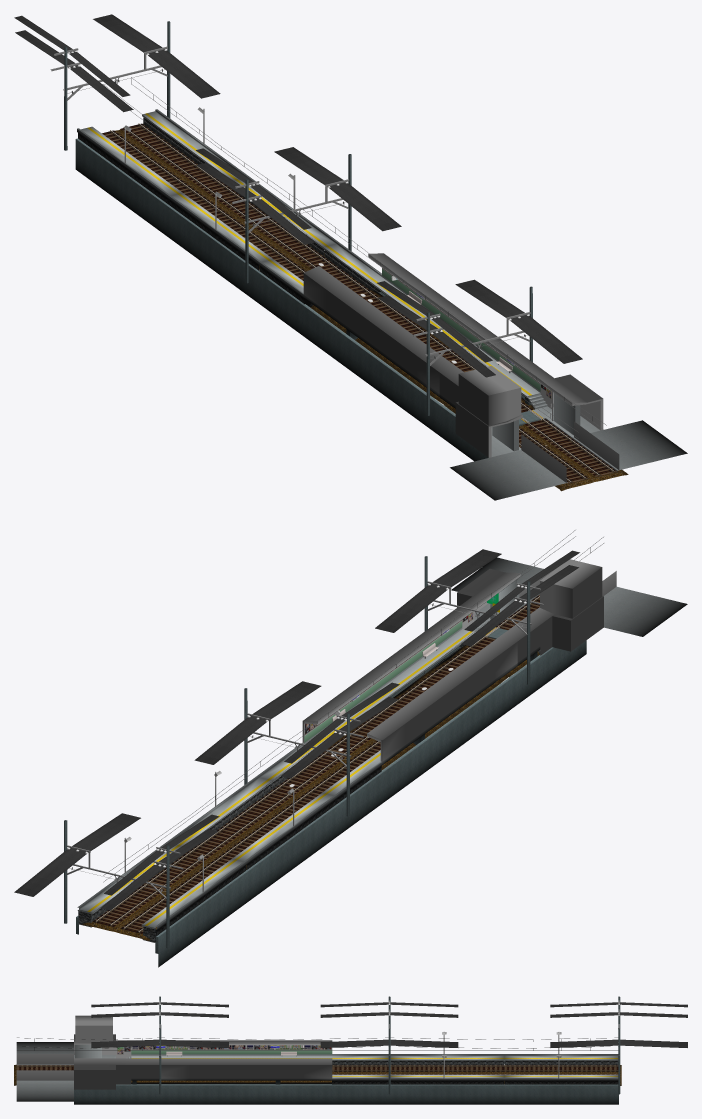
Rendered from K_YAMASHINA_ST.glb.
3 renders of one model, top to bottom at view 1: azimuth 30°, elevation 25°; view 2: azimuth 150°, elevation 25°; view 3: azimuth 270°, elevation 25°, orthographic. The views are drawn at different scales.
Visible parts, largest first — view 1: rail_small; view 2: rail_small; view 3: rail_small.
Part boxes in pixels (x1=…): rail_small: x1=14, y1=14, x2=687, y2=500; rail_small: x1=14, y1=530, x2=687, y2=967; rail_small: x1=14, y1=996, x2=687, y2=1104.
Bounding box in the file's own units: 61.53 × 38.04 × 294.
Materials: 25 (23 with a texture image).
